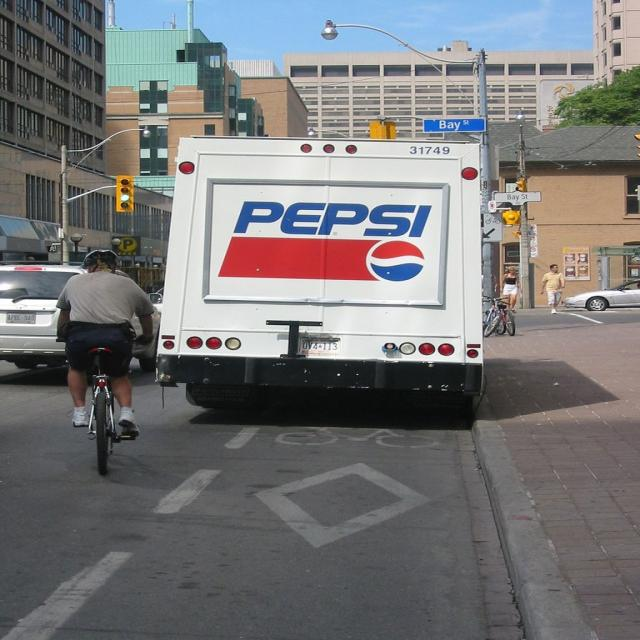pepsi: (367, 238, 428, 285)
